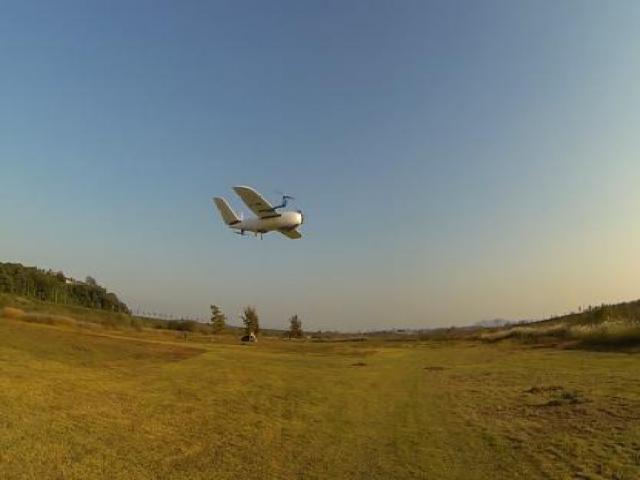uav: (204, 175, 319, 254)
